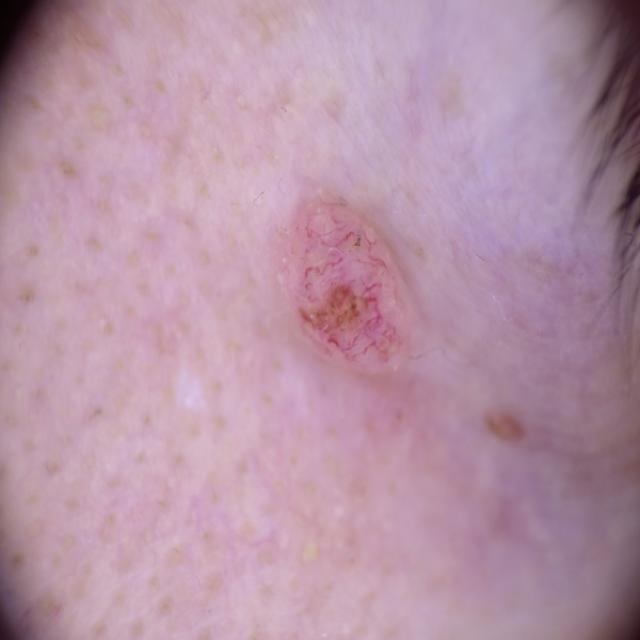NV: (275, 193, 416, 387)
